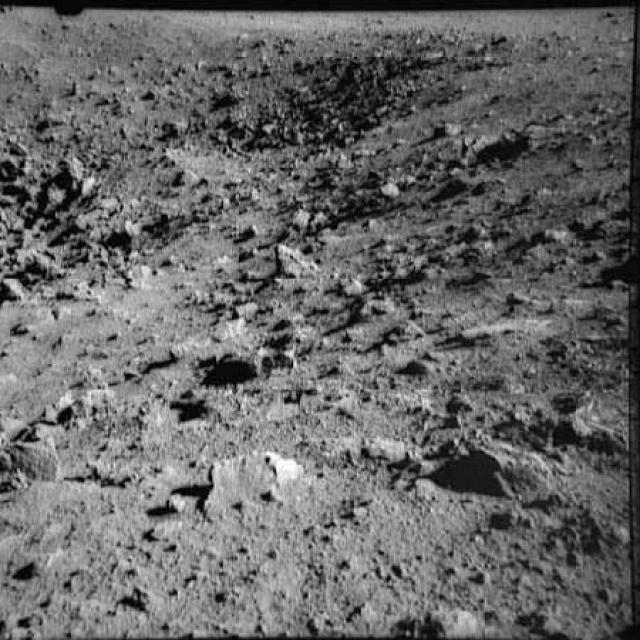rock: (422, 428, 564, 499), (203, 444, 311, 516), (0, 434, 65, 486), (200, 348, 274, 385), (417, 596, 482, 638), (267, 234, 317, 283), (0, 260, 33, 307)
